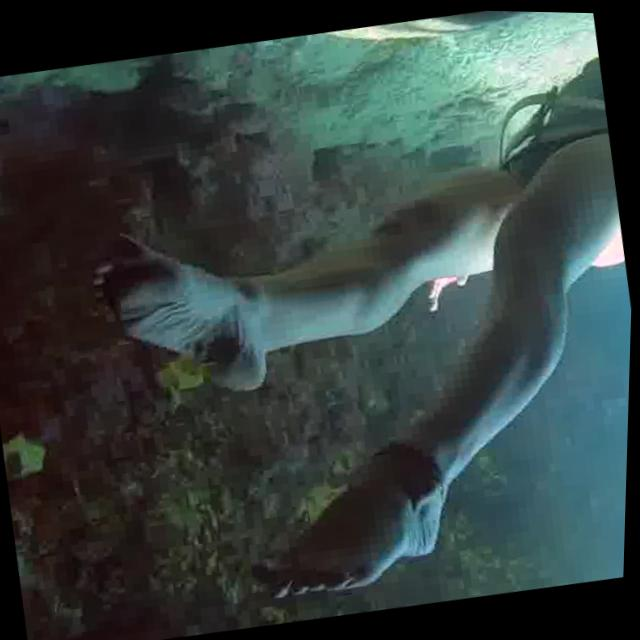human: (48, 23, 639, 640)
